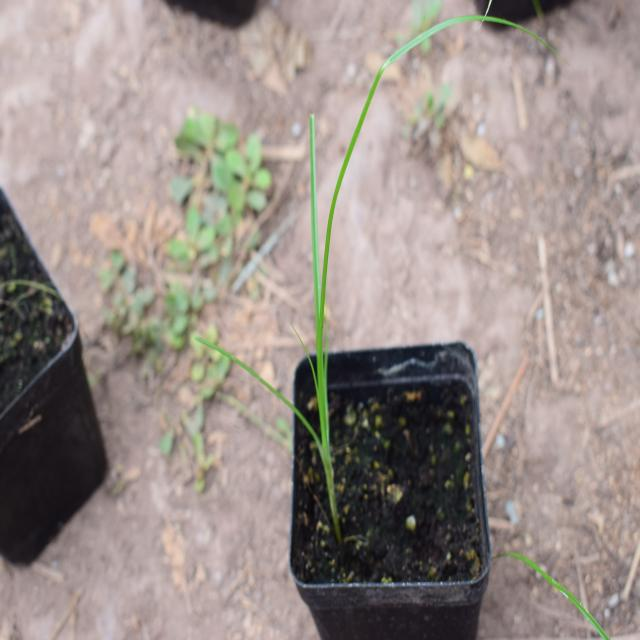sedge: (182, 13, 453, 535)
